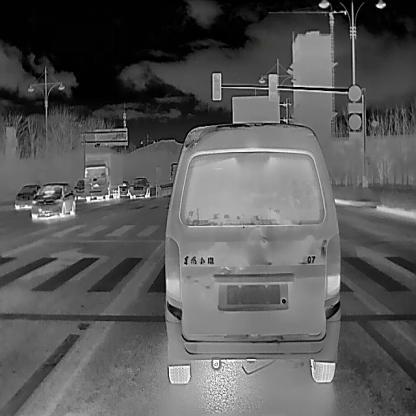car: (162, 122, 342, 384), (83, 151, 122, 200), (31, 182, 76, 220), (13, 184, 35, 210), (130, 177, 149, 197), (118, 180, 129, 195), (74, 181, 83, 199)
crosswalk: (0, 237, 163, 296), (345, 238, 416, 301)
light: (207, 68, 225, 102), (263, 70, 278, 106)
sign: (347, 84, 363, 105)
